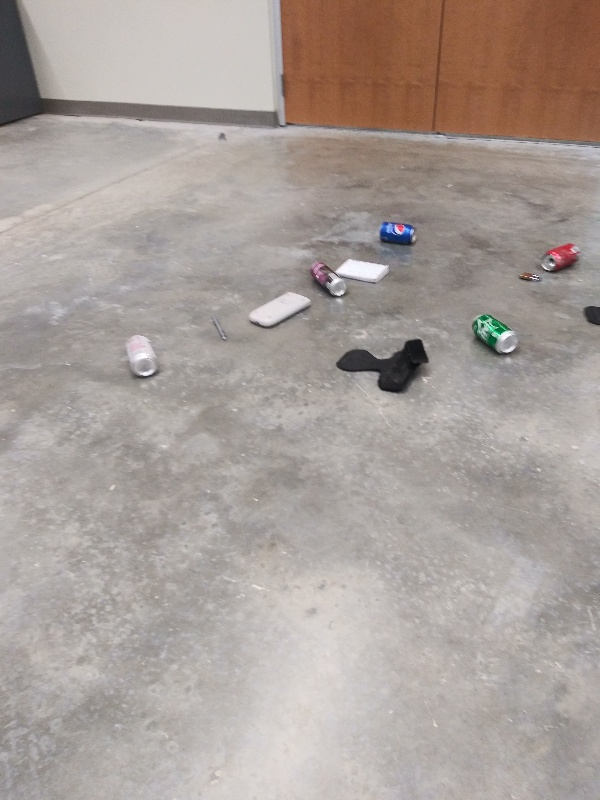can: (467, 311, 522, 358), (122, 330, 162, 379), (308, 258, 348, 301), (538, 240, 581, 273), (376, 219, 422, 249)
